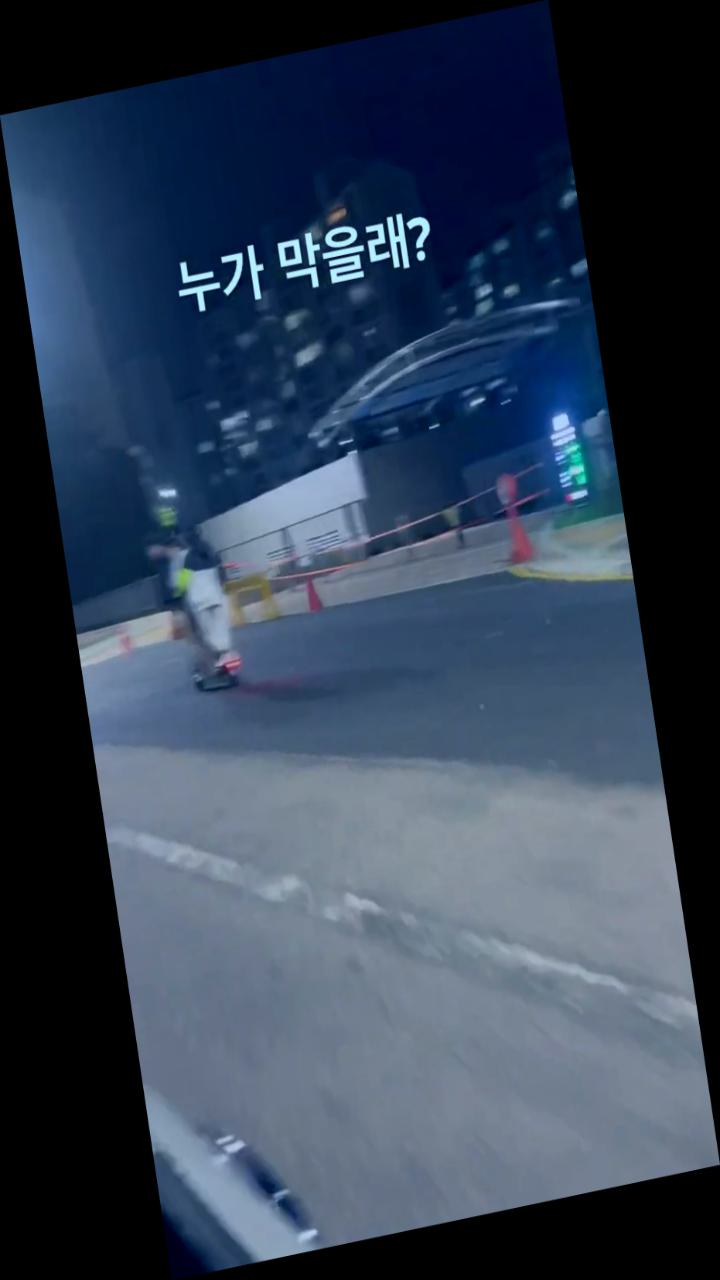multiple: (140, 513, 250, 706)
